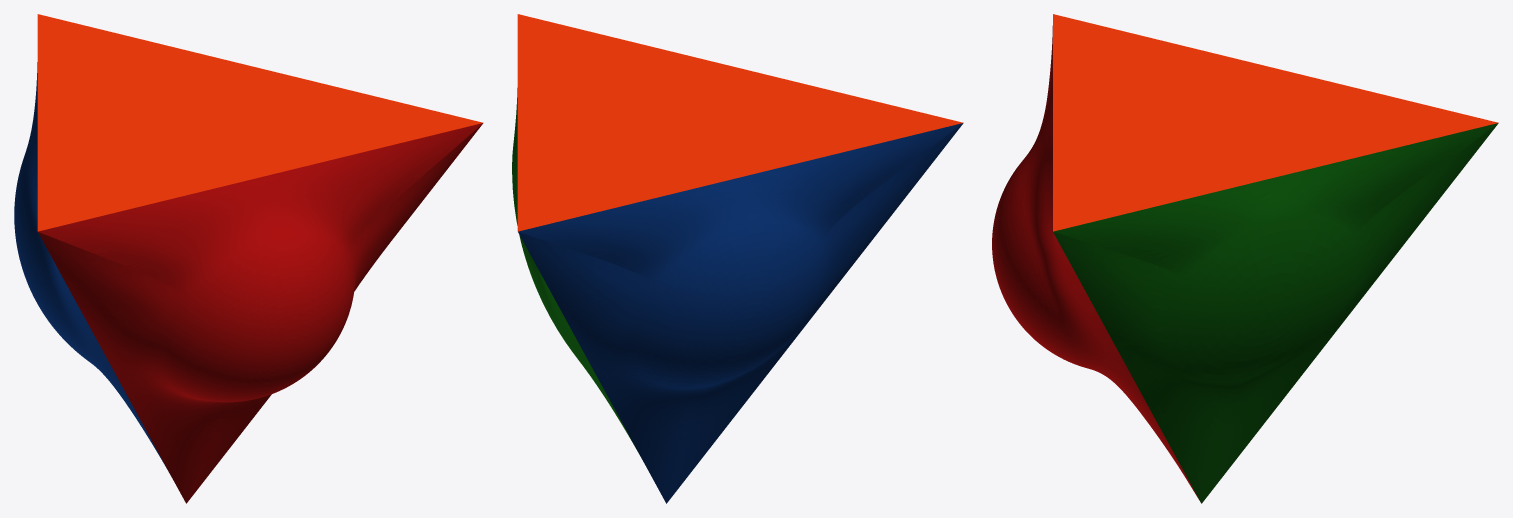
Rendered from 0_3_2_1_tetrahedron.obj.
3 views of the same model, side by side, from view 1: azimuth 30°, elevation 25°; view 2: azimuth 150°, elevation 25°; view 3: azimuth 270°, elevation 25° (orthographic).
Parts seen in each view (by area): view 1: Level_3_-_level_3_front_Level_3_-_level_3_front.001, Level_0_-_level_0_top, Level_2_-_level_2_left_Level_2_-_level_2_left.001; view 2: Level_2_-_level_2_left_Level_2_-_level_2_left.001, Level_0_-_level_0_top, Level_1_-_level_1_right_Level_1_-_level_1_right.002; view 3: Level_1_-_level_1_right_Level_1_-_level_1_right.002, Level_0_-_level_0_top, Level_3_-_level_3_front_Level_3_-_level_3_front.001.
Boxes of the visible parts, box(x1,y1,x2,y2) form: Level_3_-_level_3_front_Level_3_-_level_3_front.001: box(38, 123, 483, 503); Level_0_-_level_0_top: box(37, 14, 483, 231); Level_2_-_level_2_left_Level_2_-_level_2_left.001: box(14, 62, 169, 473); Level_2_-_level_2_left_Level_2_-_level_2_left.001: box(518, 123, 963, 503); Level_0_-_level_0_top: box(517, 14, 963, 231); Level_1_-_level_1_right_Level_1_-_level_1_right.002: box(512, 88, 638, 452); Level_1_-_level_1_right_Level_1_-_level_1_right.002: box(1053, 123, 1498, 503); Level_0_-_level_0_top: box(1053, 14, 1498, 231); Level_3_-_level_3_front_Level_3_-_level_3_front.001: box(992, 26, 1199, 500).
Bounding box in the file's own units: 0.1 × 0.0816 × 0.0984.
